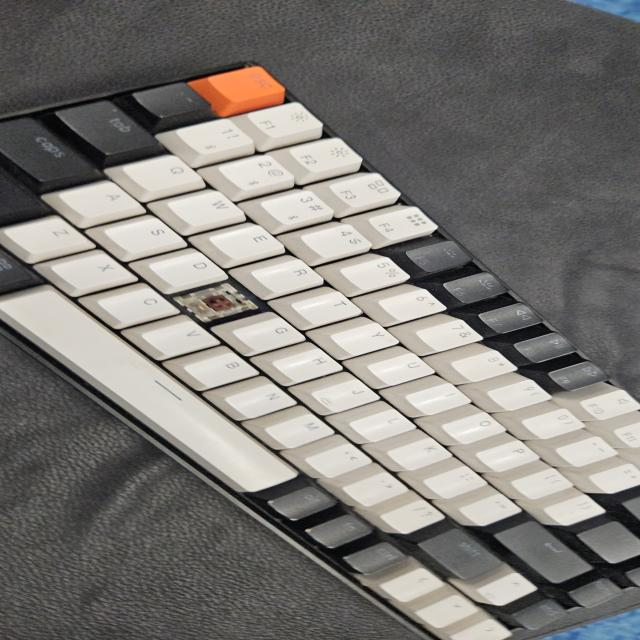C: (193, 290, 240, 317)
